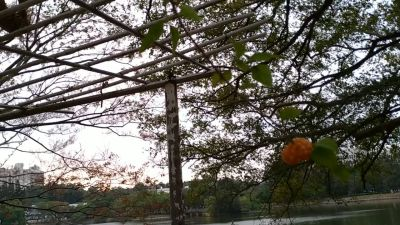eggs: (281, 137, 314, 165)
